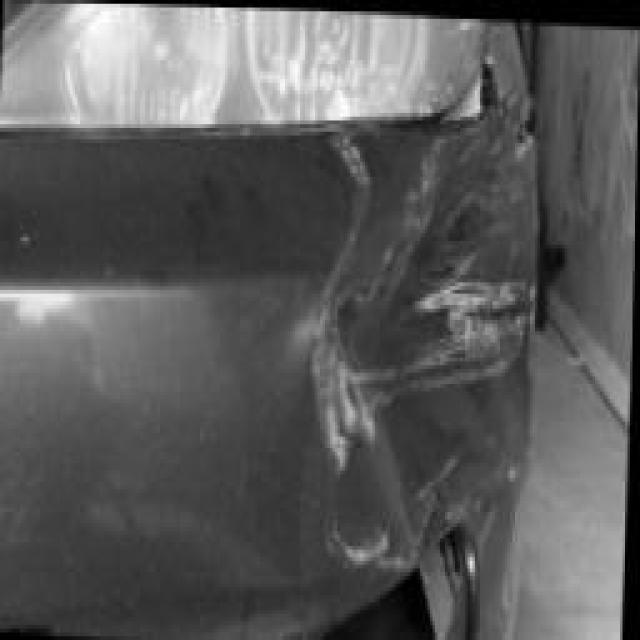Bumper: (140, 128, 559, 624)
Fender: (452, 15, 535, 141)
